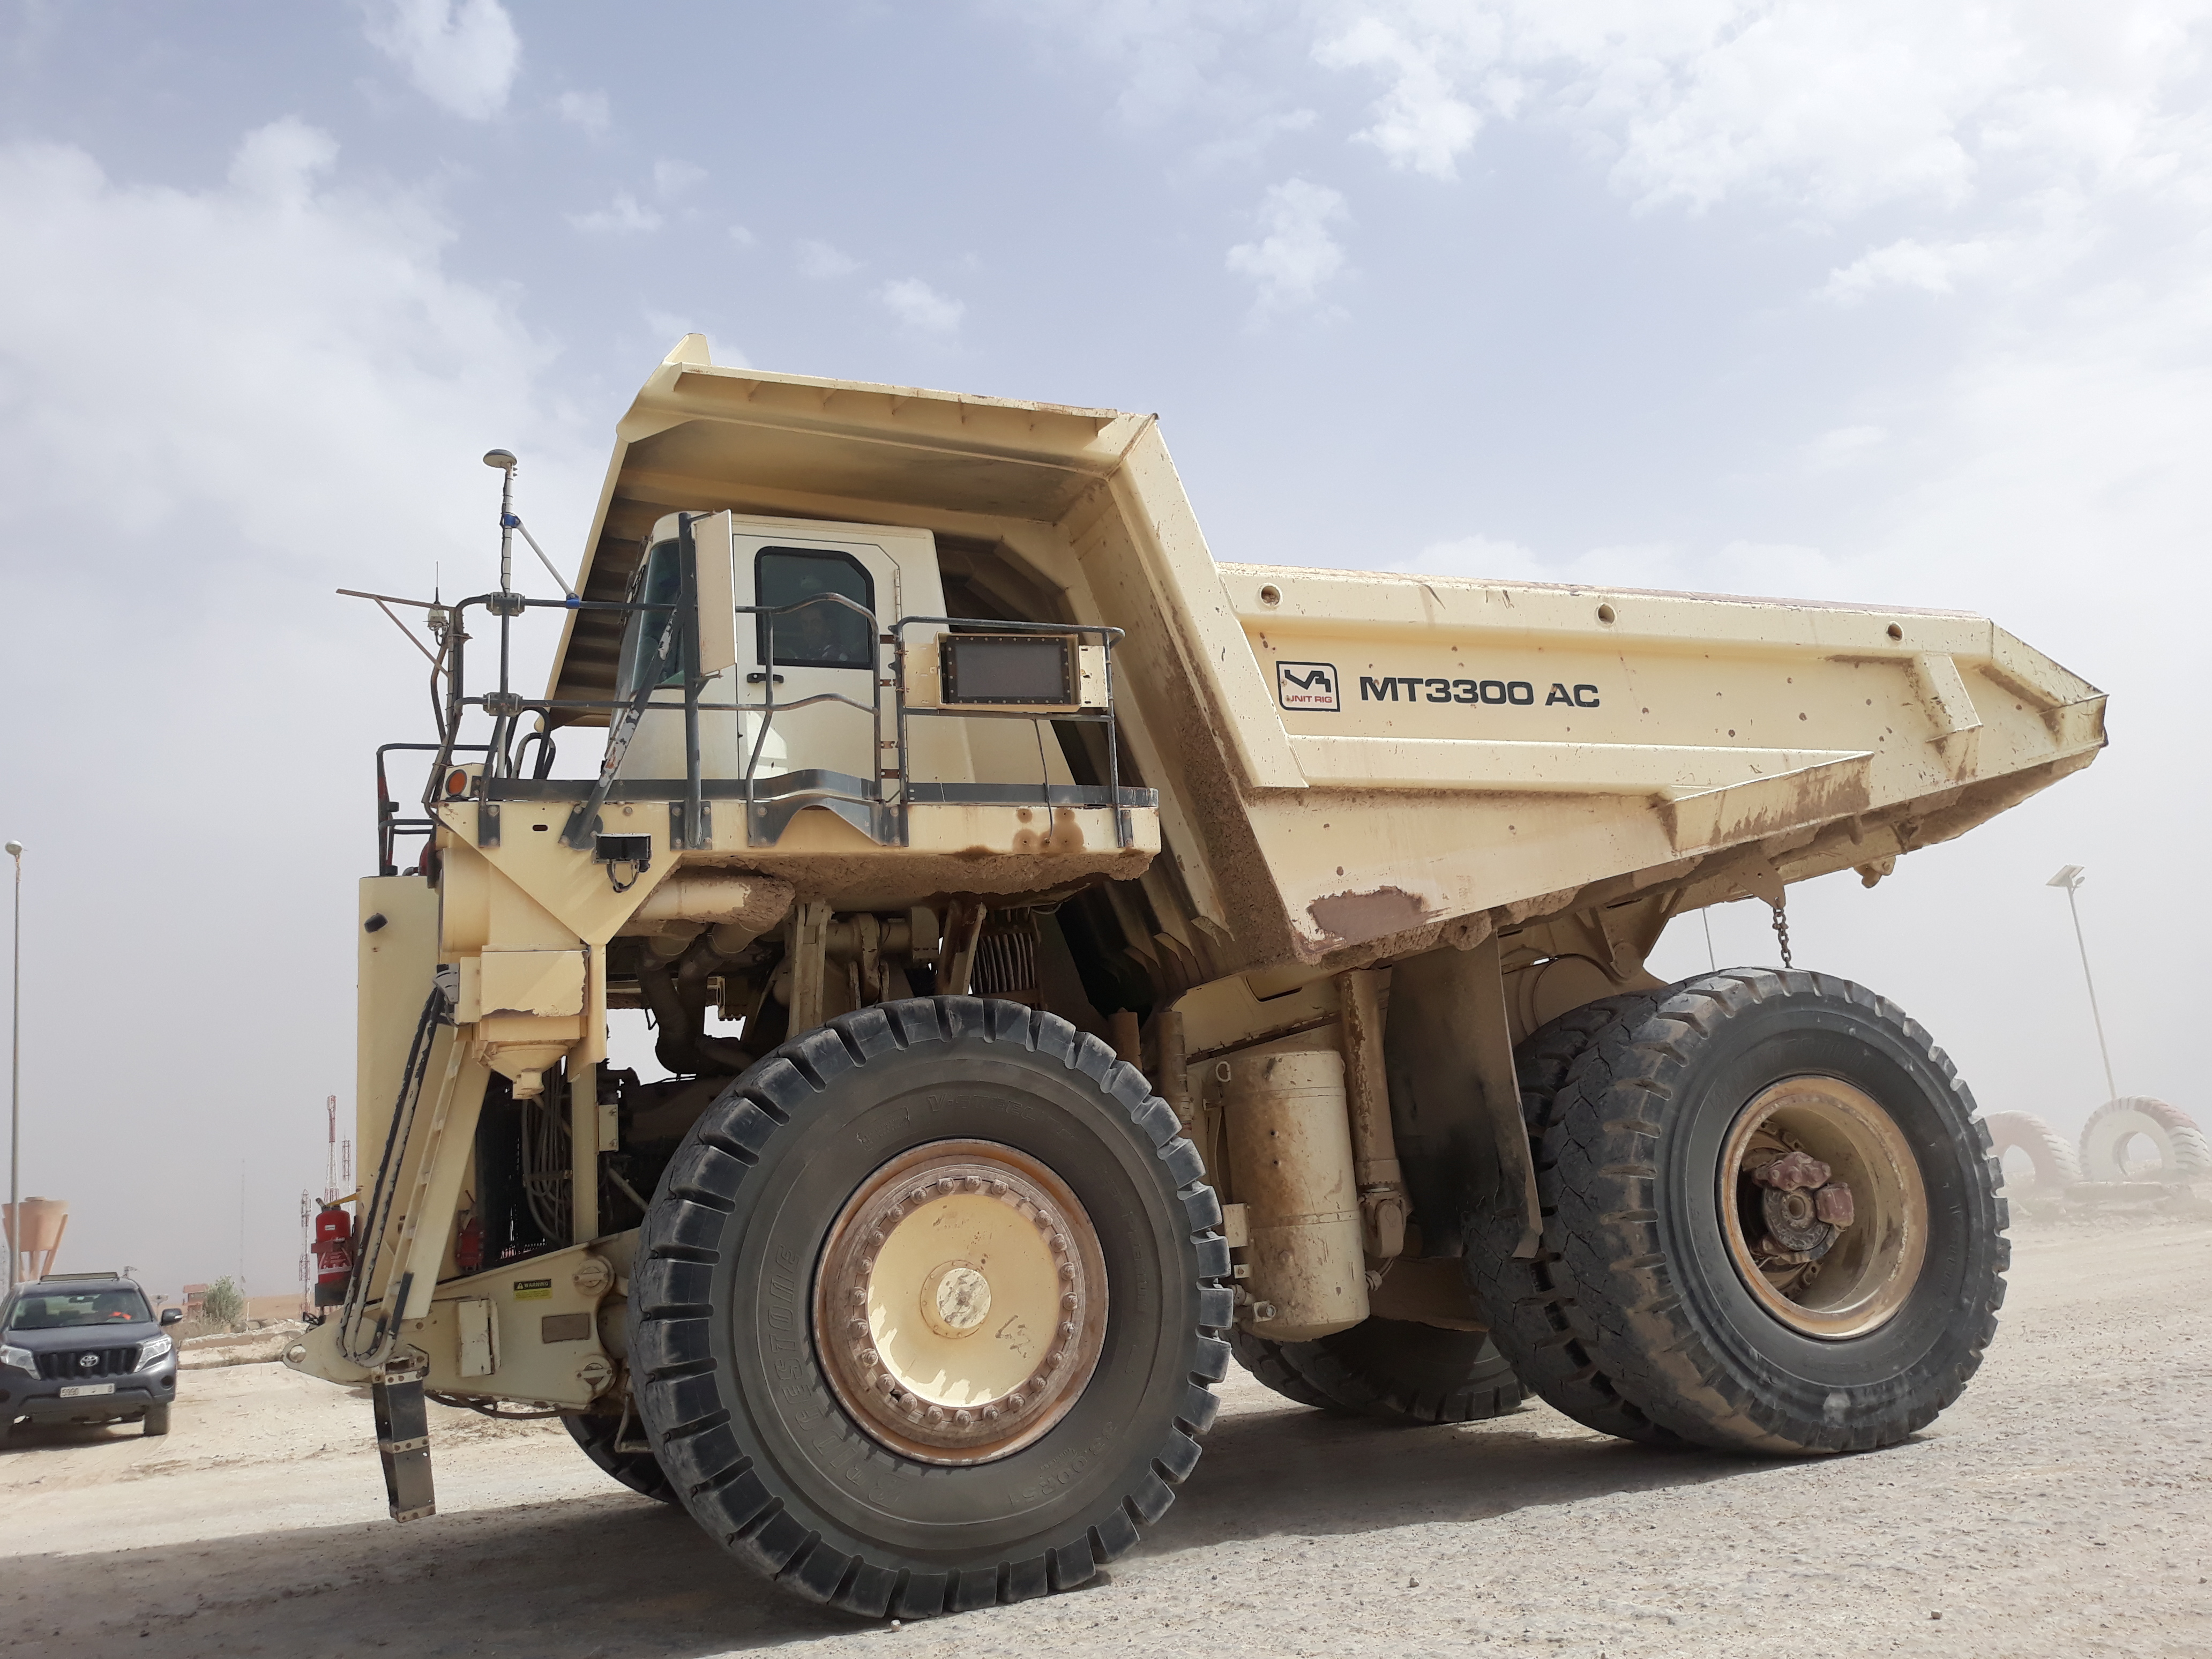camion: (296, 326, 2120, 1619)
car: (0, 1258, 183, 1471)
